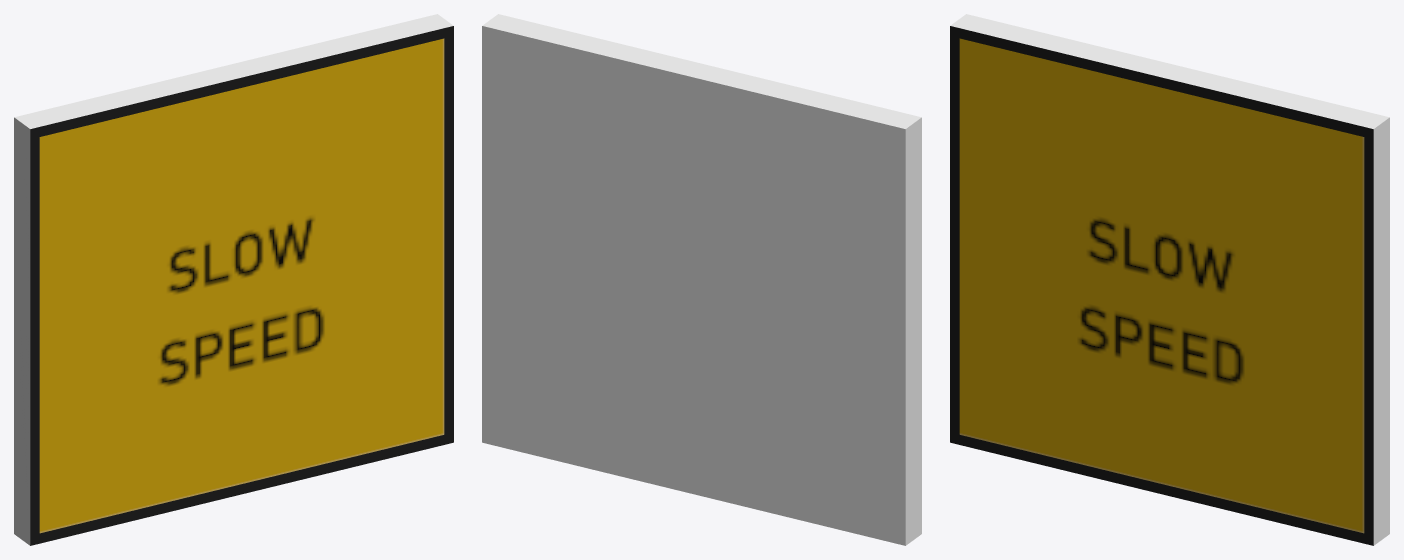
The model's file is road_signboard_05.fbx.
3 views of the same model, side by side, from view 1: azimuth 30°, elevation 25°; view 2: azimuth 150°, elevation 25°; view 3: azimuth 330°, elevation 25° (orthographic).
Visible parts, largest first — view 1: road_signboard_05; view 2: road_signboard_05; view 3: road_signboard_05.
Boxes of the visible parts, x1,y1,x2,y2 form: road_signboard_05: (14,14,453,545); road_signboard_05: (482,14,921,545); road_signboard_05: (950,14,1389,545).
Bounding box in the file's own units: 363 × 341 × 24.07.
